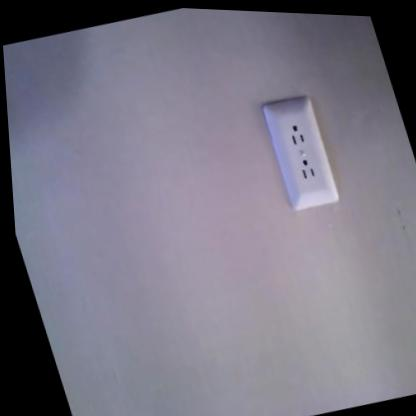OUTLET: (262, 95, 342, 213)
